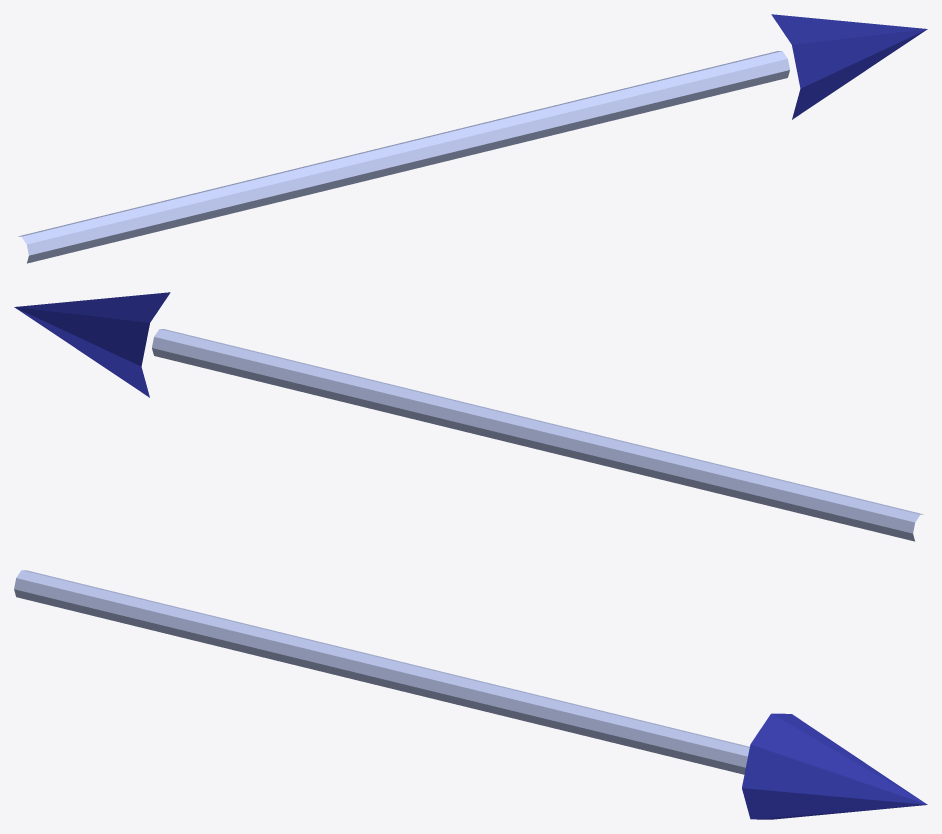
The model's file is vengeful-spirit.glb.
The picture shows the model from 3 angles, top to bottom: view 1: azimuth 30°, elevation 25°; view 2: azimuth 150°, elevation 25°; view 3: azimuth 330°, elevation 25°; orthographic projection.
Visible parts, largest first — view 1: vengeful-spirit-shaft, vengeful-spirit-tip; view 2: vengeful-spirit-shaft, vengeful-spirit-tip; view 3: vengeful-spirit-shaft, vengeful-spirit-tip.
Boxes of the visible parts, x1=… form: vengeful-spirit-shaft: x1=18, y1=51, x2=789, y2=263; vengeful-spirit-tip: x1=771, y1=14, x2=927, y2=119; vengeful-spirit-shaft: x1=152, y1=329, x2=923, y2=541; vengeful-spirit-tip: x1=14, y1=292, x2=170, y2=397; vengeful-spirit-shaft: x1=14, y1=570, x2=749, y2=774; vengeful-spirit-tip: x1=742, y1=713, x2=927, y2=819.
Bounding box in the file's own units: 1.97 × 0.22 × 0.22.
